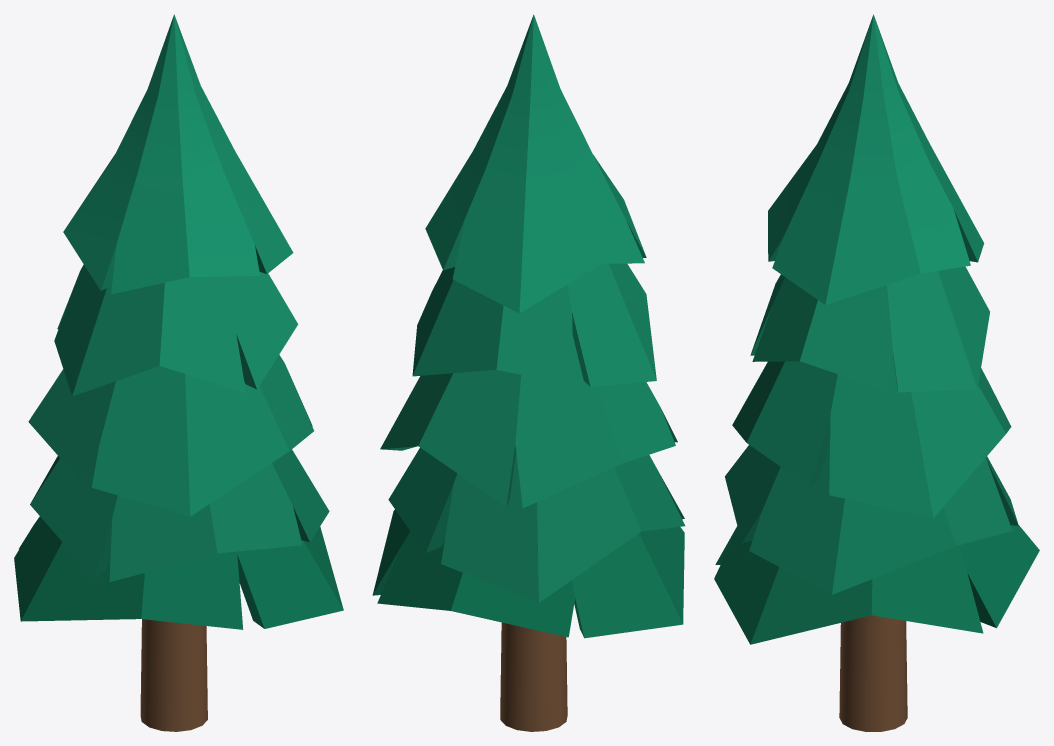
File: Spruce_Turquoise_Thin_3.fbx
3 renders of one model, left to right at view 1: azimuth 30°, elevation 25°; view 2: azimuth 150°, elevation 25°; view 3: azimuth 270°, elevation 25°, orthographic.
Visible parts, largest first — view 1: Cylinder.1093, Cylinder.1092, Cylinder.1091, Cylinder.1089, Cylinder.1090, Cylinder.1088; view 2: Cylinder.1093, Cylinder.1092, Cylinder.1090, Cylinder.1091, Cylinder.1089, Cylinder.1088; view 3: Cylinder.1093, Cylinder.1092, Cylinder.1090, Cylinder.1091, Cylinder.1089, Cylinder.1088.
Boxes of the visible parts, x1,y1,x2,y2 form: Cylinder.1093: (63,14,293,294); Cylinder.1092: (28,354,313,516); Cylinder.1091: (54,264,298,396); Cylinder.1089: (14,516,343,629); Cylinder.1090: (30,449,329,582); Cylinder.1088: (140,619,207,731); Cylinder.1093: (425,14,646,313); Cylinder.1092: (380,336,677,508); Cylinder.1090: (388,447,685,602); Cylinder.1091: (412,263,656,386); Cylinder.1089: (372,509,684,638); Cylinder.1088: (500,622,567,731); Cylinder.1093: (768,14,984,304); Cylinder.1092: (732,355,1011,518); Cylinder.1090: (725,440,1018,594); Cylinder.1091: (750,266,989,392); Cylinder.1089: (714,525,1039,644); Cylinder.1088: (839,615,907,731).
Size of the model in its own units: 247 by 567 by 238.
